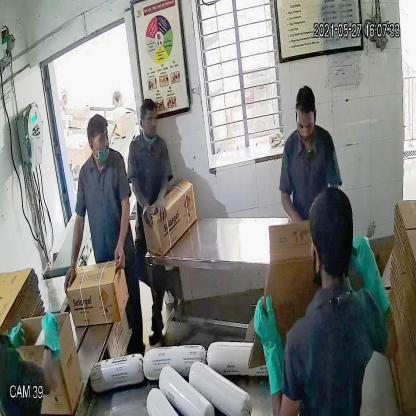no_goggles: (84, 129, 111, 152)
